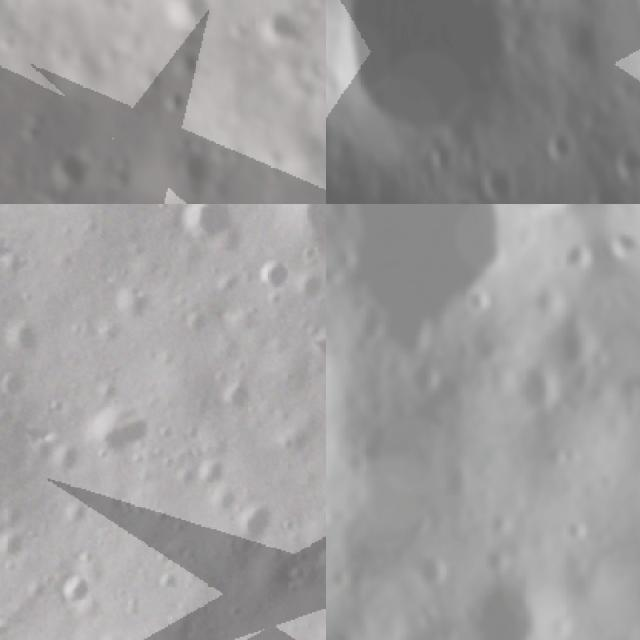crater: (326, 204, 551, 385), (326, 0, 524, 137), (441, 557, 570, 640), (78, 386, 162, 469), (499, 352, 568, 428), (539, 297, 606, 375), (219, 480, 291, 552), (0, 385, 33, 537), (163, 204, 254, 259), (259, 204, 326, 278), (102, 269, 165, 332), (40, 428, 101, 489), (544, 226, 607, 285), (209, 365, 267, 424), (0, 302, 55, 363), (399, 351, 451, 413), (250, 246, 304, 301), (453, 274, 506, 330), (407, 540, 460, 594), (499, 204, 593, 234), (51, 564, 102, 614), (0, 516, 42, 575), (263, 2, 309, 48), (476, 162, 519, 204), (582, 174, 636, 204), (299, 528, 326, 588), (54, 153, 91, 190), (0, 529, 18, 595), (181, 146, 213, 183), (173, 0, 211, 30), (424, 138, 462, 168), (156, 82, 190, 114), (446, 183, 486, 204), (25, 117, 44, 146)
